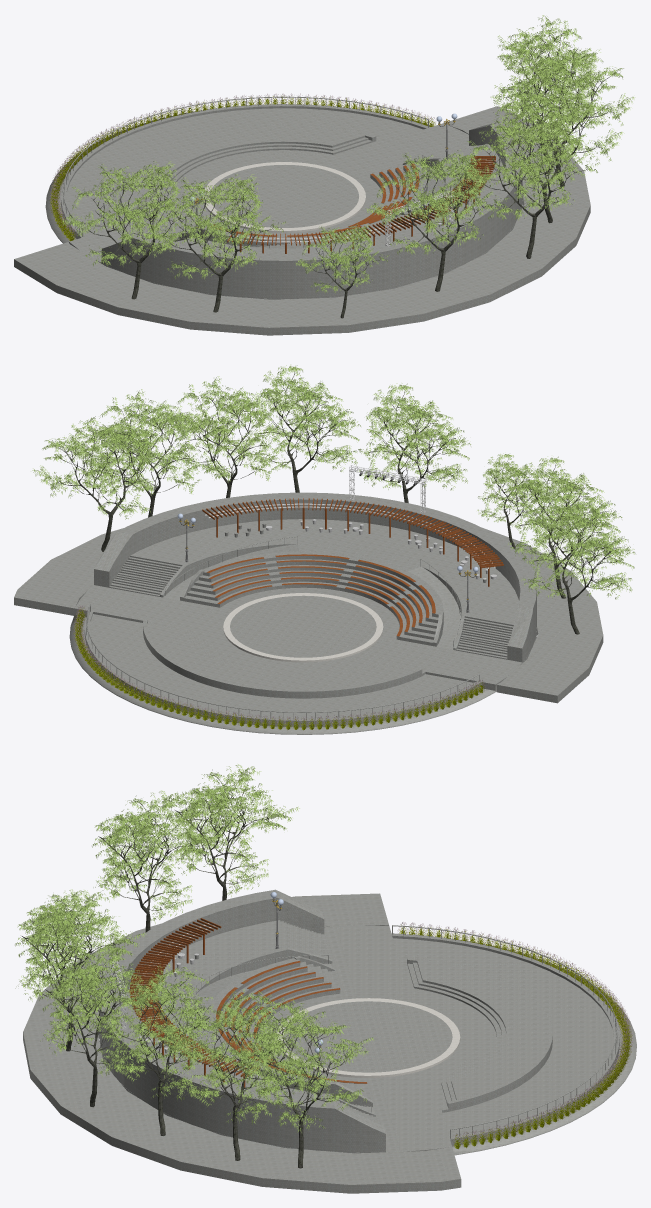
The model's file is lake.glb.
3 renders of one model, top to bottom at view 1: azimuth 30°, elevation 25°; view 2: azimuth 150°, elevation 25°; view 3: azimuth 270°, elevation 25°, orthographic. The views are drawn at different scales.
Parts seen in each view (by area): view 1: 3DGeom-1, 3DGeom-645, 3DGeom-644, 3DGeom-3, 3DGeom-34555, 3DGeom-34632, 3DGeom-2, 3DGeom-239; view 2: 3DGeom-1, 3DGeom-645, 3DGeom-644, 3DGeom-3, 3DGeom-34555, 3DGeom-34632, 3DGeom-2, 3DGeom-239, 3DGeom-31; view 3: 3DGeom-1, 3DGeom-645, 3DGeom-644, 3DGeom-3, 3DGeom-34555, 3DGeom-34632, 3DGeom-2.
Boxes of the visible parts, left/top/right/bottom form: 3DGeom-1: left=14, top=96, right=590, bottom=335; 3DGeom-645: left=61, top=15, right=635, bottom=293; 3DGeom-644: left=84, top=33, right=614, bottom=318; 3DGeom-3: left=211, top=156, right=495, bottom=253; 3DGeom-34555: left=50, top=96, right=435, bottom=241; 3DGeom-34632: left=49, top=93, right=435, bottom=235; 3DGeom-2: left=203, top=162, right=365, bottom=232; 3DGeom-239: left=228, top=159, right=486, bottom=246; 3DGeom-1: left=14, top=492, right=603, bottom=734; 3DGeom-645: left=32, top=364, right=635, bottom=599; 3DGeom-644: left=54, top=372, right=621, bottom=634; 3DGeom-3: left=202, top=498, right=503, bottom=636; 3DGeom-34555: left=73, top=609, right=484, bottom=730; 3DGeom-34632: left=73, top=605, right=485, bottom=728; 3DGeom-2: left=223, top=593, right=383, bottom=662; 3DGeom-239: left=205, top=465, right=495, bottom=568; 3DGeom-31: left=266, top=519, right=496, bottom=579; 3DGeom-1: left=23, top=889, right=636, bottom=1193; 3DGeom-645: left=15, top=764, right=374, bottom=1132; 3DGeom-644: left=22, top=774, right=350, bottom=1168; 3DGeom-3: left=129, top=918, right=367, bottom=1087; 3DGeom-34555: left=399, top=927, right=632, bottom=1148; 3DGeom-34632: left=397, top=922, right=633, bottom=1145; 3DGeom-2: left=277, top=998, right=460, bottom=1077.
Size of the model in its own units: 75.95 by 18.57 by 64.5.
19 materials, 8 textured.
